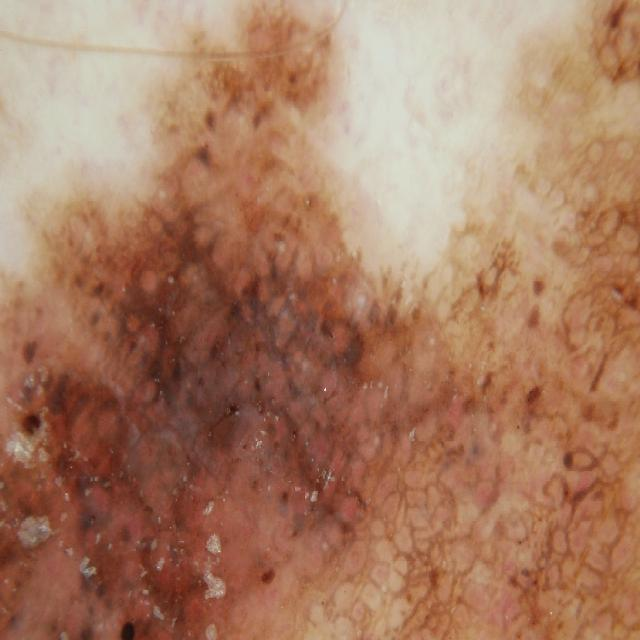Melanoma: (0, 53, 428, 640), (444, 204, 640, 639)
